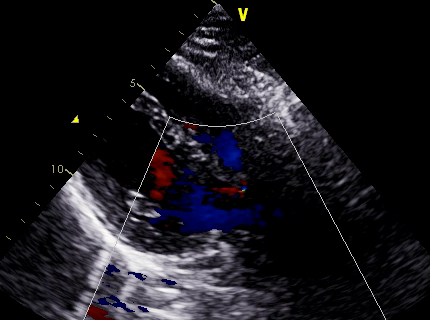AR: (159, 156, 249, 207)
